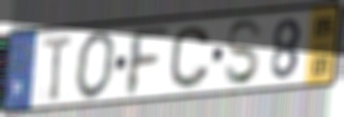8: (269, 16, 302, 82)
C: (168, 24, 212, 91)
F: (126, 25, 172, 99)
O: (74, 29, 119, 102)
S: (223, 17, 265, 88)
T: (41, 33, 75, 104)
